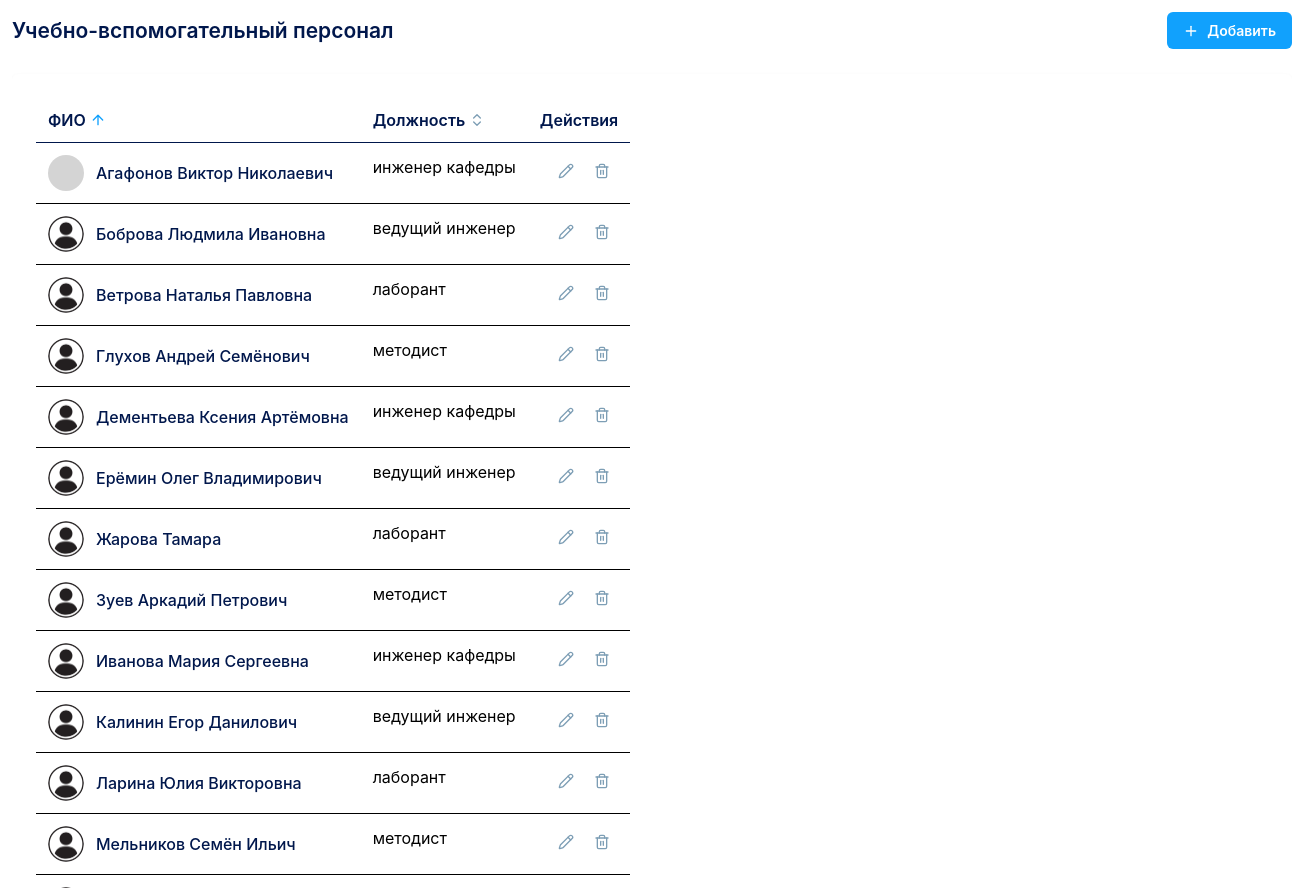
Test: AdminHelpersPage, список › меняет порядок кликом по заголовку колонки
The width and height of the screenshot is (1304, 888).
Click the button "ФИО" at (77, 120), box [48,108,106,132]
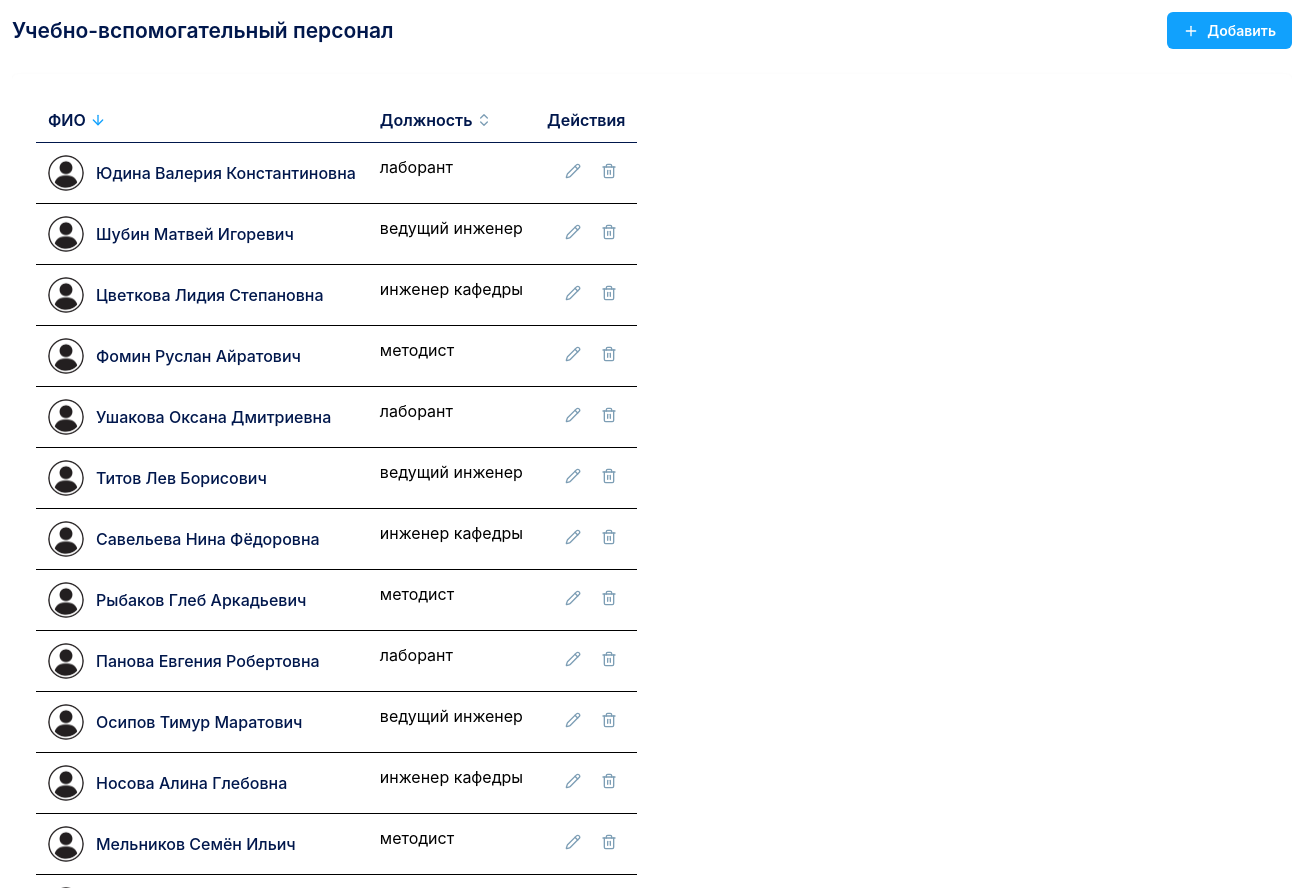
Result: the cell "Юдина Валерия Константиновна" is shown at [36,142,368,204]
